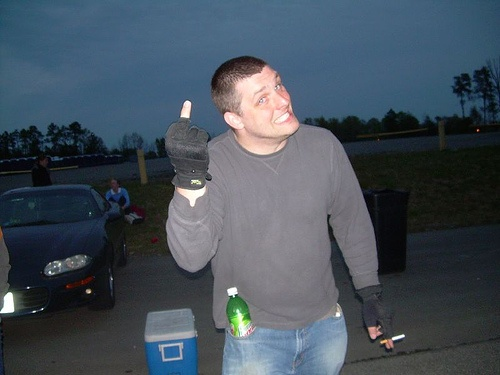head: (211, 57, 302, 144)
person: (164, 56, 391, 371), (104, 177, 142, 223), (30, 153, 52, 185)
